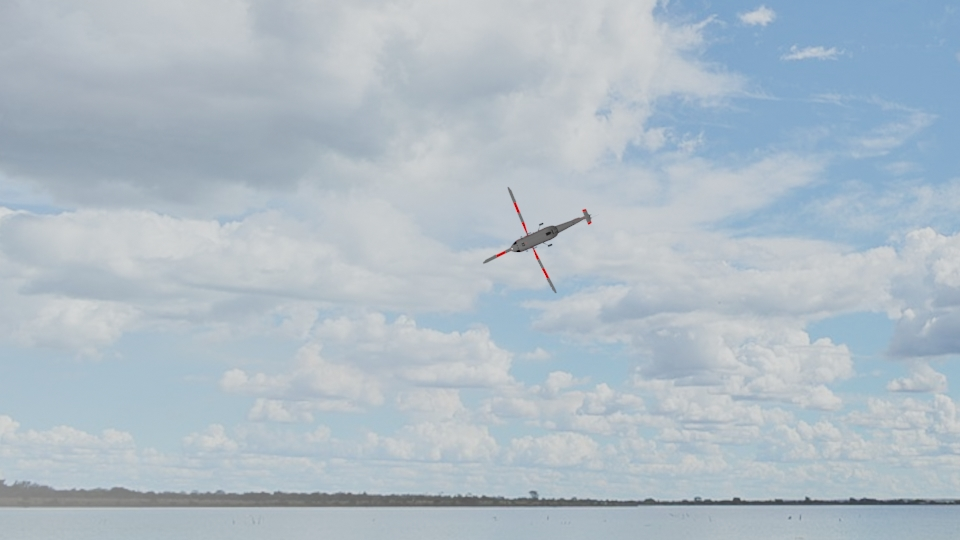heli: (480, 183, 596, 266)
